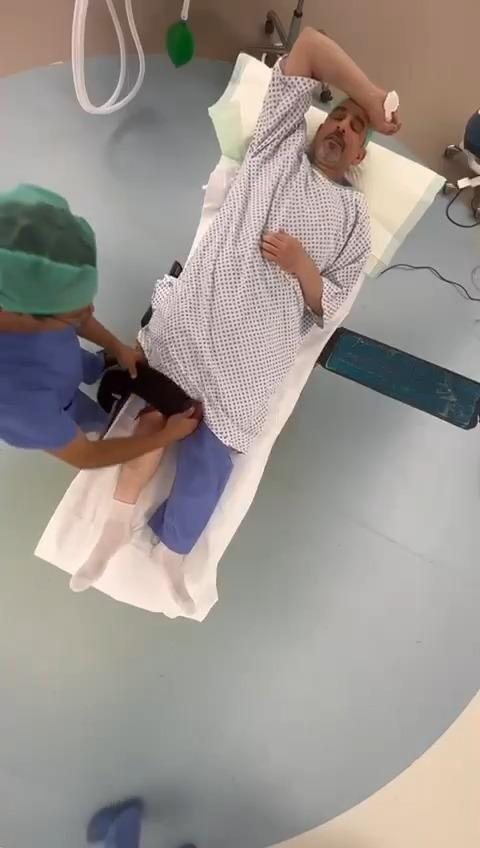patient: (71, 28, 399, 617)
tourniquet: (131, 361, 194, 416)
